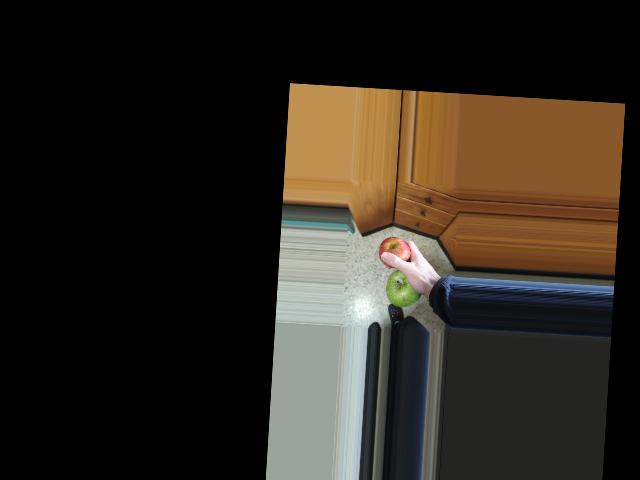apple: (382, 267, 426, 311)
